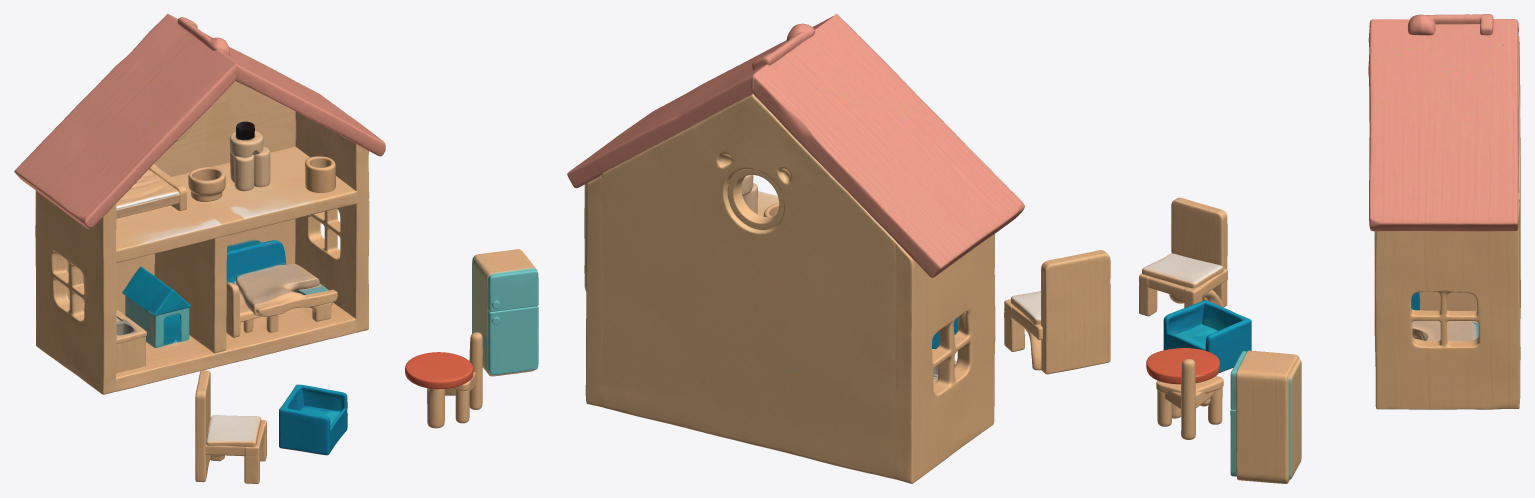
File: wooden_dollhouse-optimized.glb
3 views of the same model, side by side, from view 1: azimuth 30°, elevation 25°; view 2: azimuth 150°, elevation 25°; view 3: azimuth 270°, elevation 25° (orthographic). The views are drawn at different scales.
Size of the model in its own units: 1.9 by 1.48 by 1.48.
Materials: 1 (1 with a texture image).
